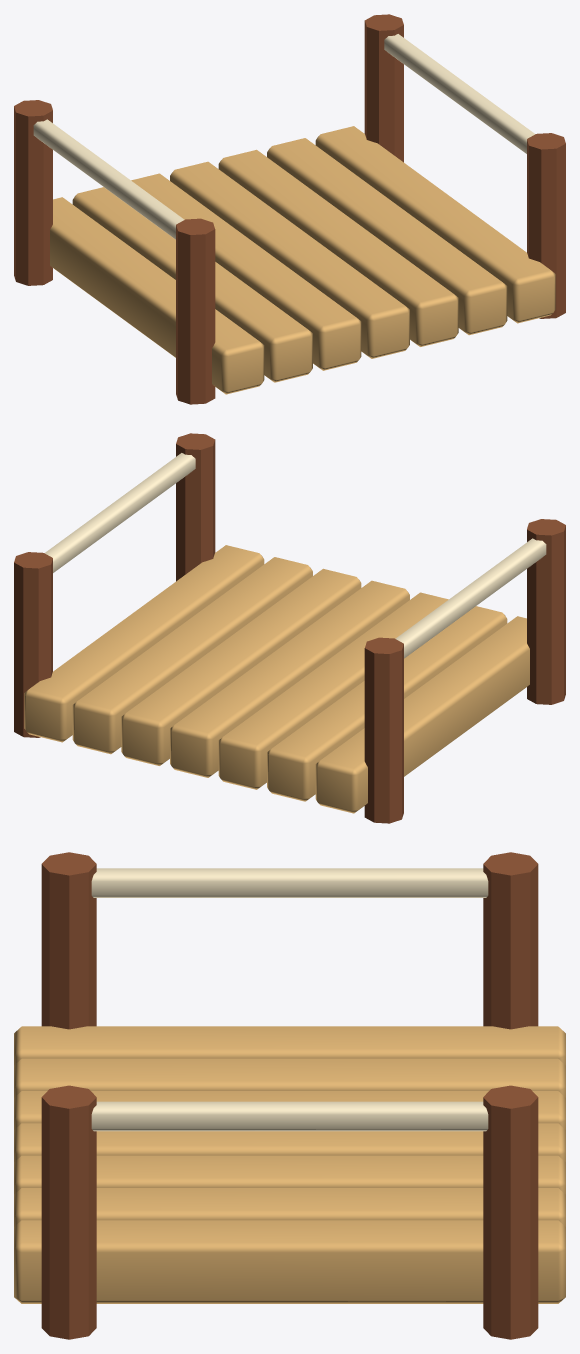
File: deck.glb
3 renders of one model, top to bottom at view 1: azimuth 30°, elevation 25°; view 2: azimuth 150°, elevation 25°; view 3: azimuth 270°, elevation 25°, orthographic. The views are drawn at different scales.
Visible parts, largest first — view 1: Plank, Plank.005, Plank.004, Plank.003, Plank.006, Plank.002, Plank.001, Post, Post.001, Post.002, Post.003, Rail (+1 smaller); view 2: Plank, Plank.005, Plank.004, Plank.003, Plank.006, Plank.002, Plank.001, Post.001, Post, Post.003, Post.002, Rail (+1 smaller); view 3: Plank.006, Plank, Plank.001, Plank.004, Plank.005, Post.002, Post.003, Rail.001, Rail, Plank.003, Post, Post.001 (+1 smaller).
Boxes of the visible parts, x1=… form: Plank: x1=50, y1=197, x2=264, y2=394; Plank.005: x1=267, y1=138, x2=507, y2=335; Plank.004: x1=218, y1=149, x2=458, y2=346; Plank.003: x1=170, y1=161, x2=409, y2=358; Plank.006: x1=315, y1=126, x2=555, y2=323; Plank.002: x1=131, y1=173, x2=361, y2=370; Plank.001: x1=72, y1=187, x2=312, y2=382; Post: x1=176, y1=218, x2=215, y2=404; Post.001: x1=14, y1=100, x2=52, y2=285; Post.002: x1=527, y1=133, x2=565, y2=318; Post.003: x1=364, y1=14, x2=403, y2=162; Rail: x1=33, y1=119, x2=184, y2=239; Plank: x1=315, y1=616, x2=529, y2=813; Plank.005: x1=72, y1=557, x2=312, y2=754; Plank.004: x1=121, y1=568, x2=361, y2=765; Plank.003: x1=170, y1=580, x2=409, y2=777; Plank.006: x1=24, y1=545, x2=264, y2=742; Plank.002: x1=218, y1=592, x2=448, y2=789; Plank.001: x1=267, y1=606, x2=507, y2=801; Post.001: x1=364, y1=637, x2=403, y2=823; Post: x1=527, y1=519, x2=565, y2=704; Post.003: x1=14, y1=552, x2=52, y2=737; Post.002: x1=176, y1=433, x2=215, y2=581; Rail: x1=395, y1=538, x2=546, y2=658; Plank.006: x1=14, y1=1220, x2=565, y2=1303; Plank: x1=14, y1=1026, x2=565, y2=1065; Plank.001: x1=14, y1=1058, x2=565, y2=1097; Plank.004: x1=14, y1=1155, x2=565, y2=1194; Plank.005: x1=14, y1=1188, x2=565, y2=1226; Post.002: x1=41, y1=1085, x2=96, y2=1339; Post.003: x1=483, y1=1085, x2=538, y2=1339; Rail.001: x1=91, y1=1101, x2=488, y2=1131; Rail: x1=91, y1=868, x2=488, y2=897; Plank.003: x1=14, y1=1123, x2=565, y2=1161; Post: x1=41, y1=852, x2=96, y2=1029; Post.001: x1=483, y1=852, x2=538, y2=1029.
Bounding box in the file's own units: 1.43 × 0.6 × 1.3.
